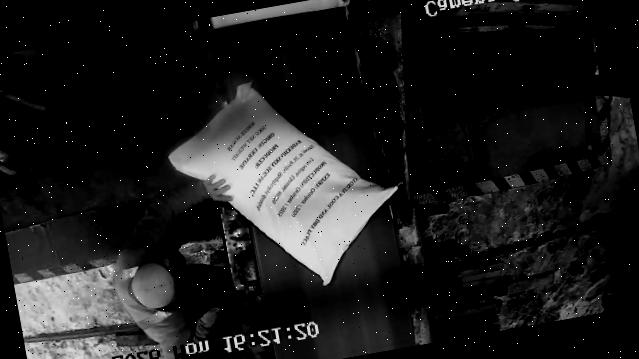bag: (159, 58, 414, 307)
